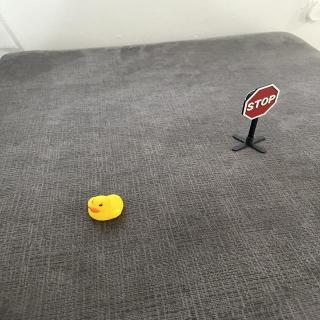duck_regular: (88, 194, 126, 224)
sign_stop: (242, 84, 282, 122)
